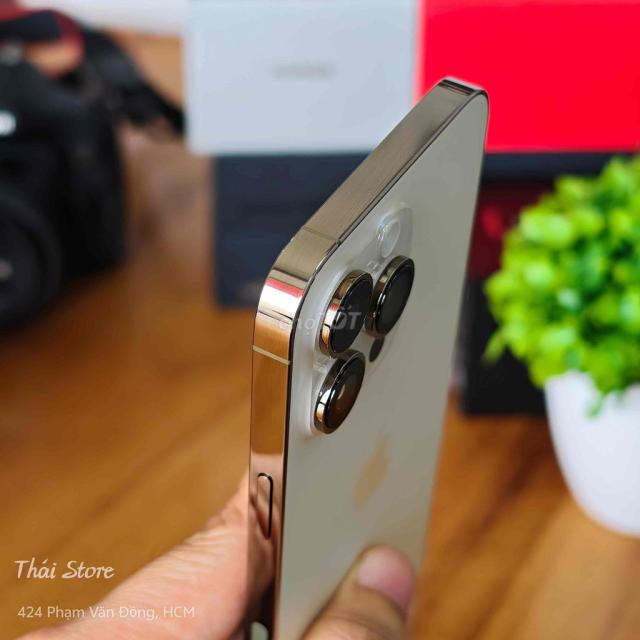gen_14: (230, 81, 504, 640)
